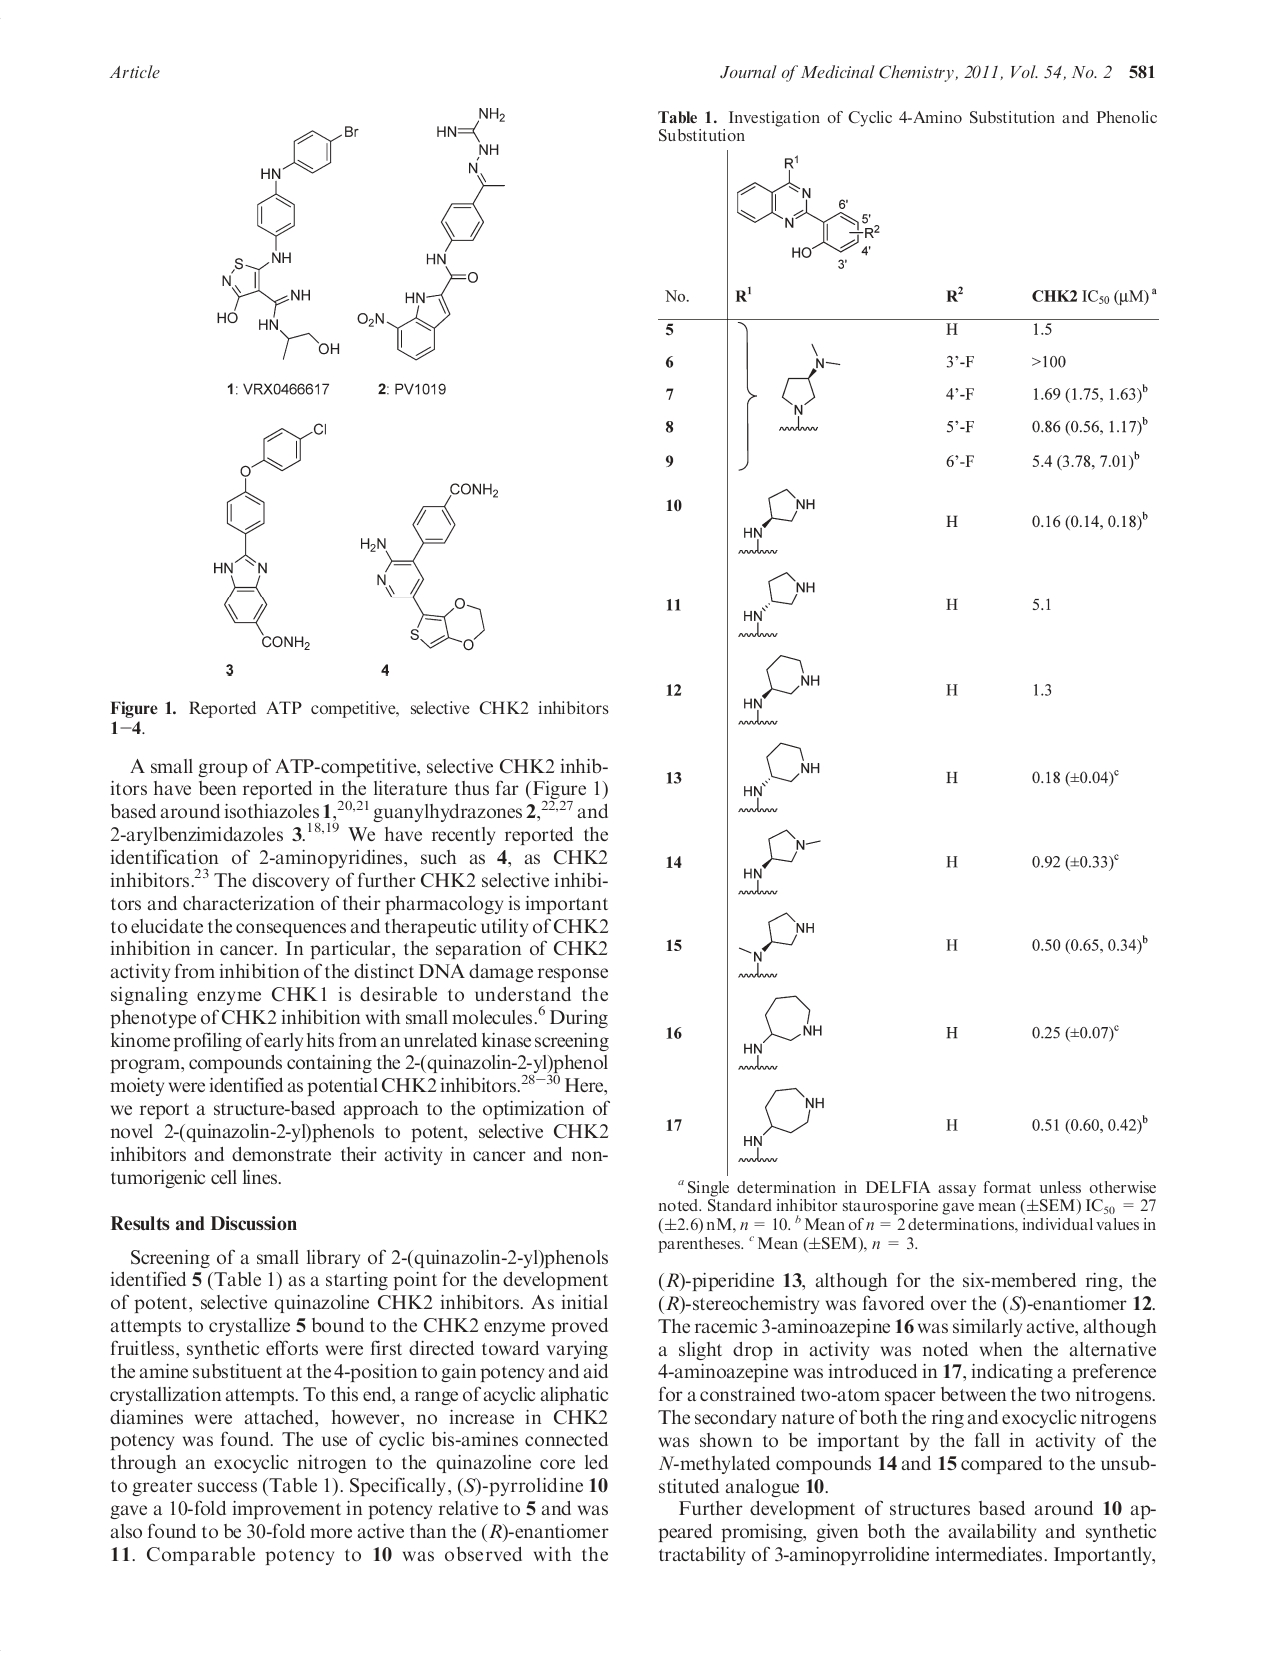exist_molecular: (356, 102, 508, 364), (205, 118, 360, 363), (210, 415, 335, 656), (352, 473, 499, 652), (731, 148, 880, 270), (733, 727, 822, 821), (734, 1080, 824, 1168), (737, 642, 826, 730), (735, 992, 823, 1077), (734, 825, 827, 904), (733, 567, 822, 648), (777, 334, 844, 436), (734, 911, 818, 981), (735, 484, 814, 559)
